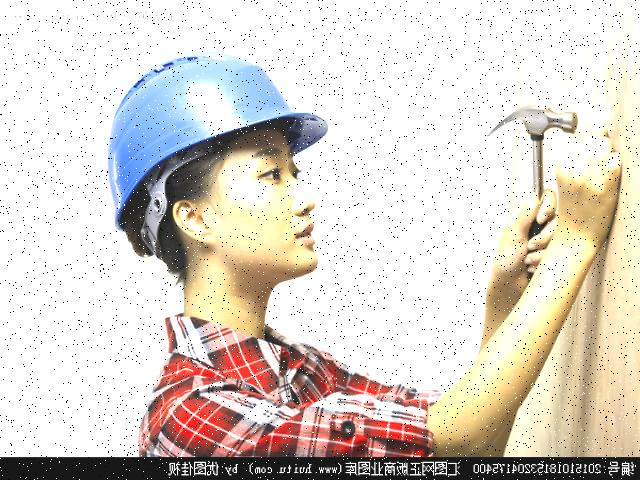Helmet: (104, 44, 334, 264)
